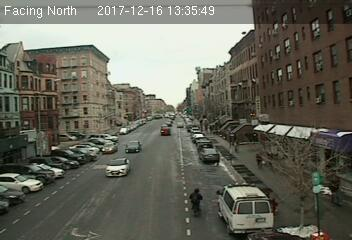bicycle: (189, 188, 204, 217)
car: (104, 158, 129, 176), (196, 147, 220, 163), (123, 140, 142, 154), (100, 143, 116, 151), (160, 126, 171, 135)
police: (215, 181, 274, 234)
